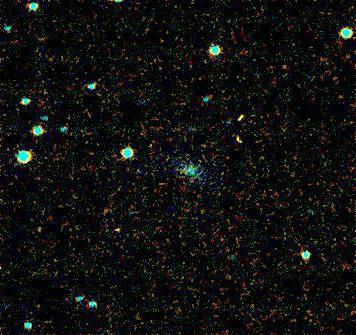star: (102, 212, 132, 242)
